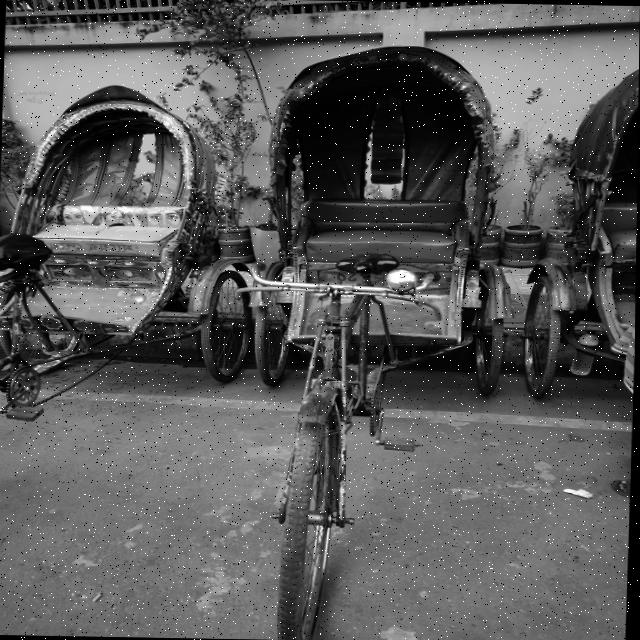rikshaw: (233, 17, 521, 640), (0, 78, 226, 540)
